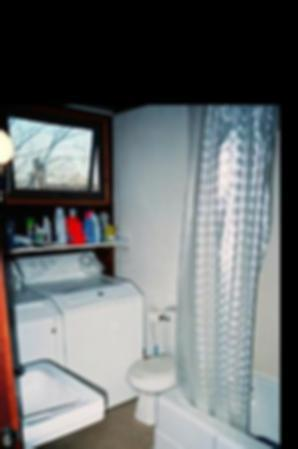Ducha: (174, 110, 278, 449)
Electrodomestico: (27, 261, 139, 400)
Lavamanos: (13, 364, 102, 426)
Sanitario: (120, 314, 185, 428)
